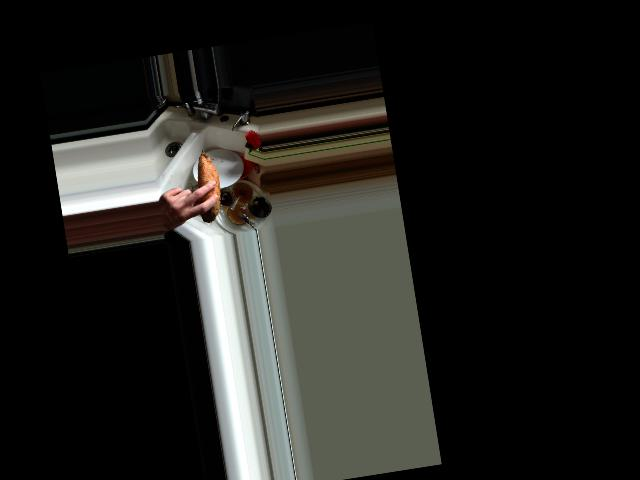sweet_potato: (186, 144, 225, 226)
